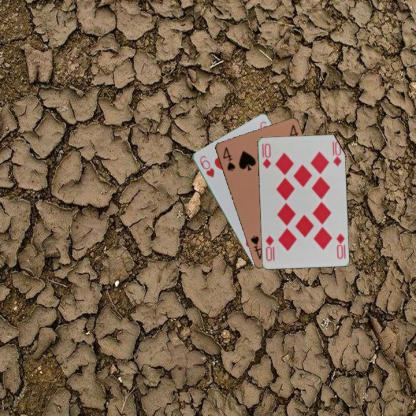10d: (259, 141, 272, 169), (334, 231, 346, 260)
4s: (220, 145, 236, 172)
6h: (197, 153, 216, 179)
